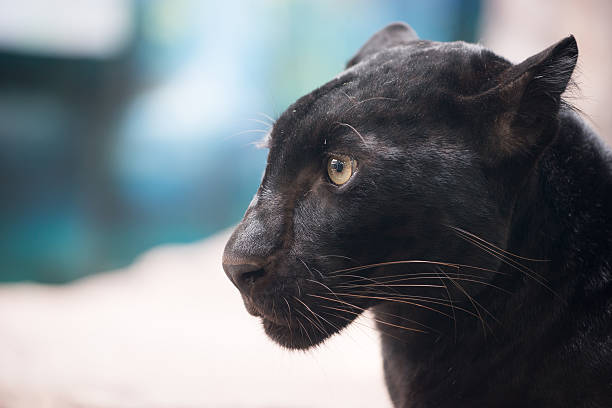panther: (166, 10, 611, 395)
